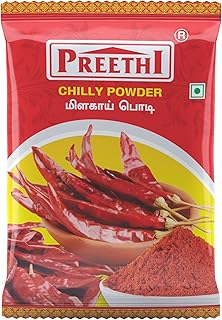Chilli Powder: (2, 1, 222, 320)
